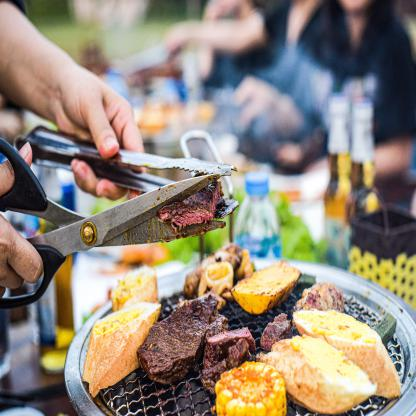Carne: (135, 294, 217, 384), (200, 326, 257, 397), (260, 308, 292, 349)
